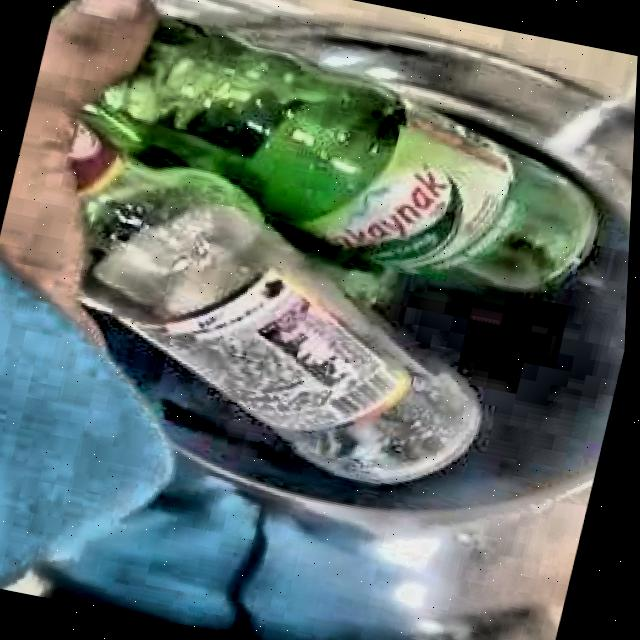glass: (72, 20, 594, 484)
